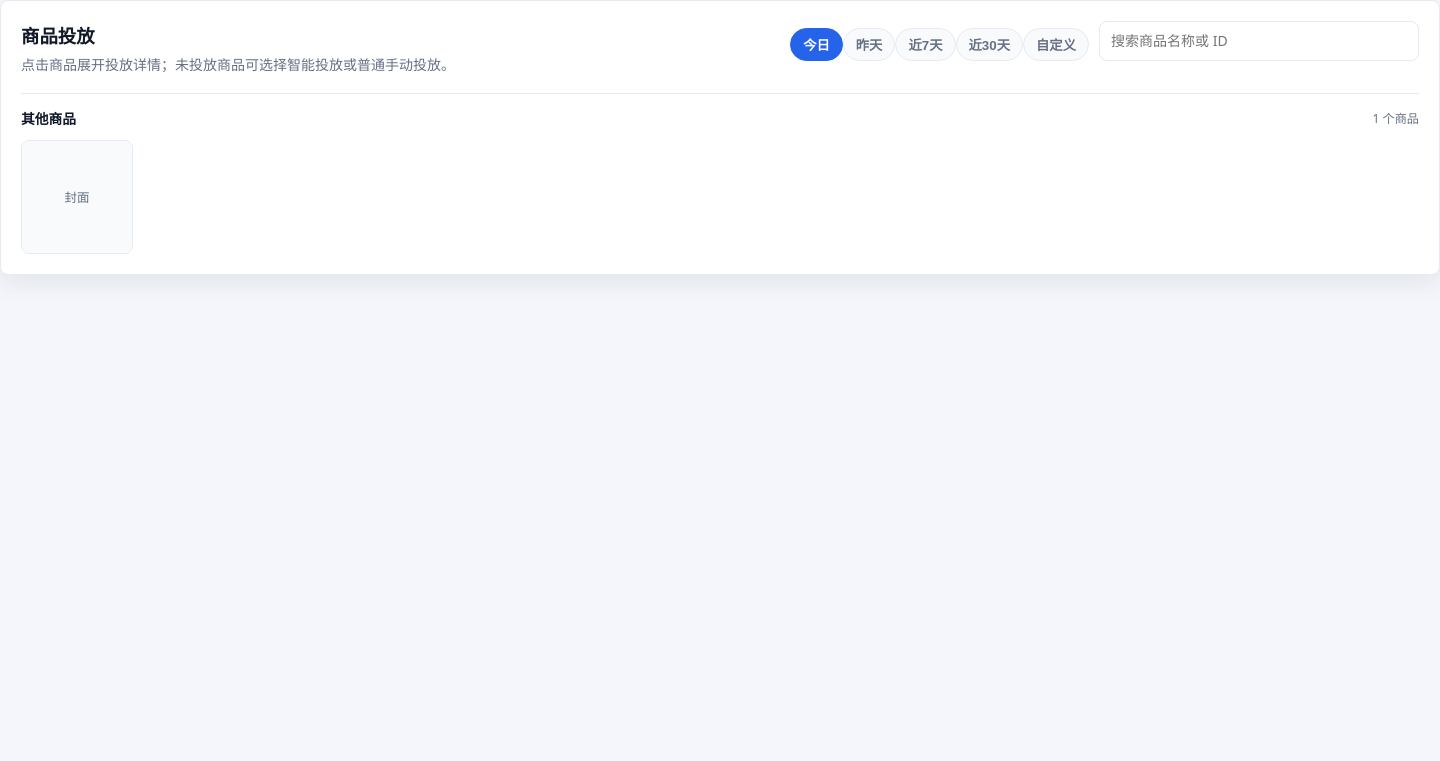
Test: ProductAutomationPanel creative pagination › renders, searches, and selects candidates beyond the former six-item cap
Click the button with aria-label "展开商品 测试商品" at (77, 197), box left=22, top=141, right=132, bottom=253
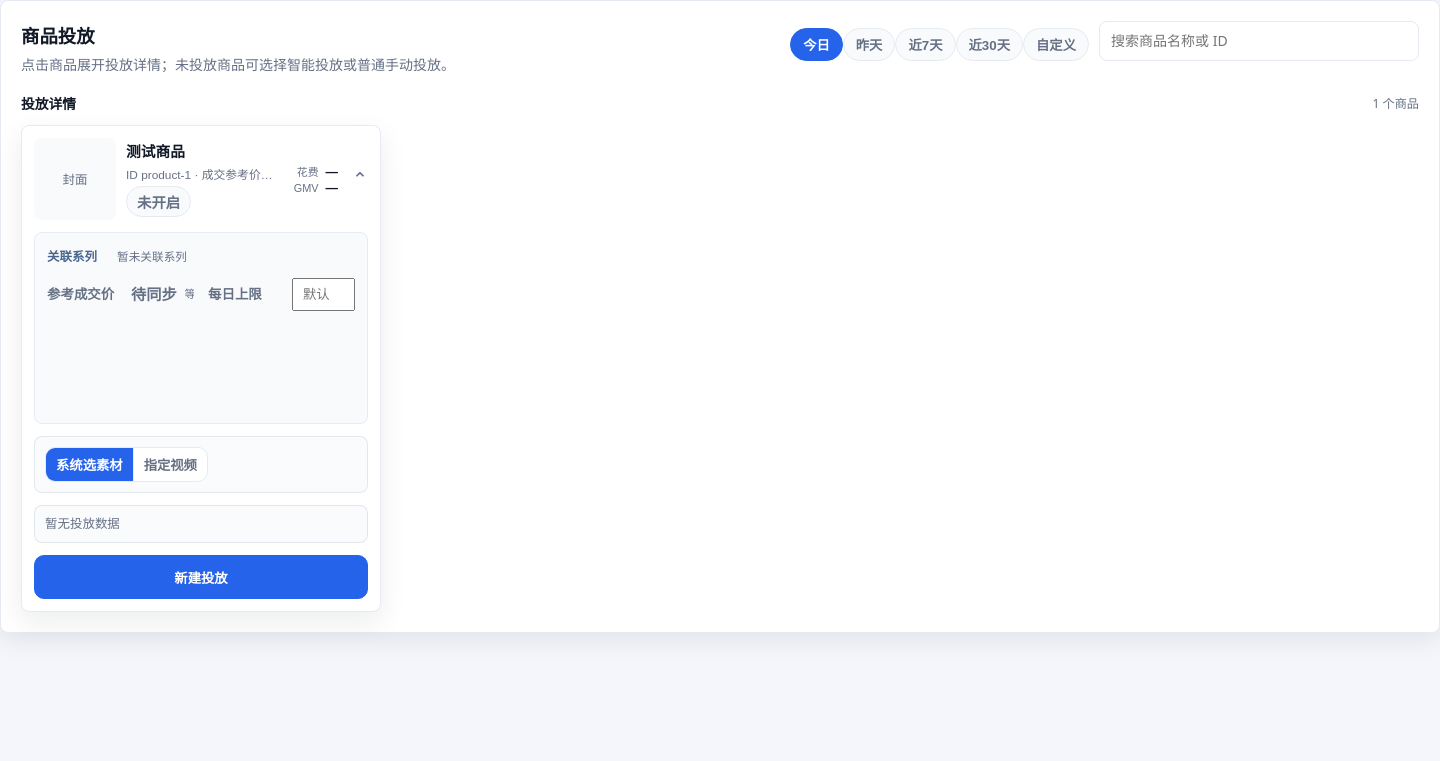
Click the button "指定视频" at (170, 464), box left=134, top=448, right=207, bottom=481
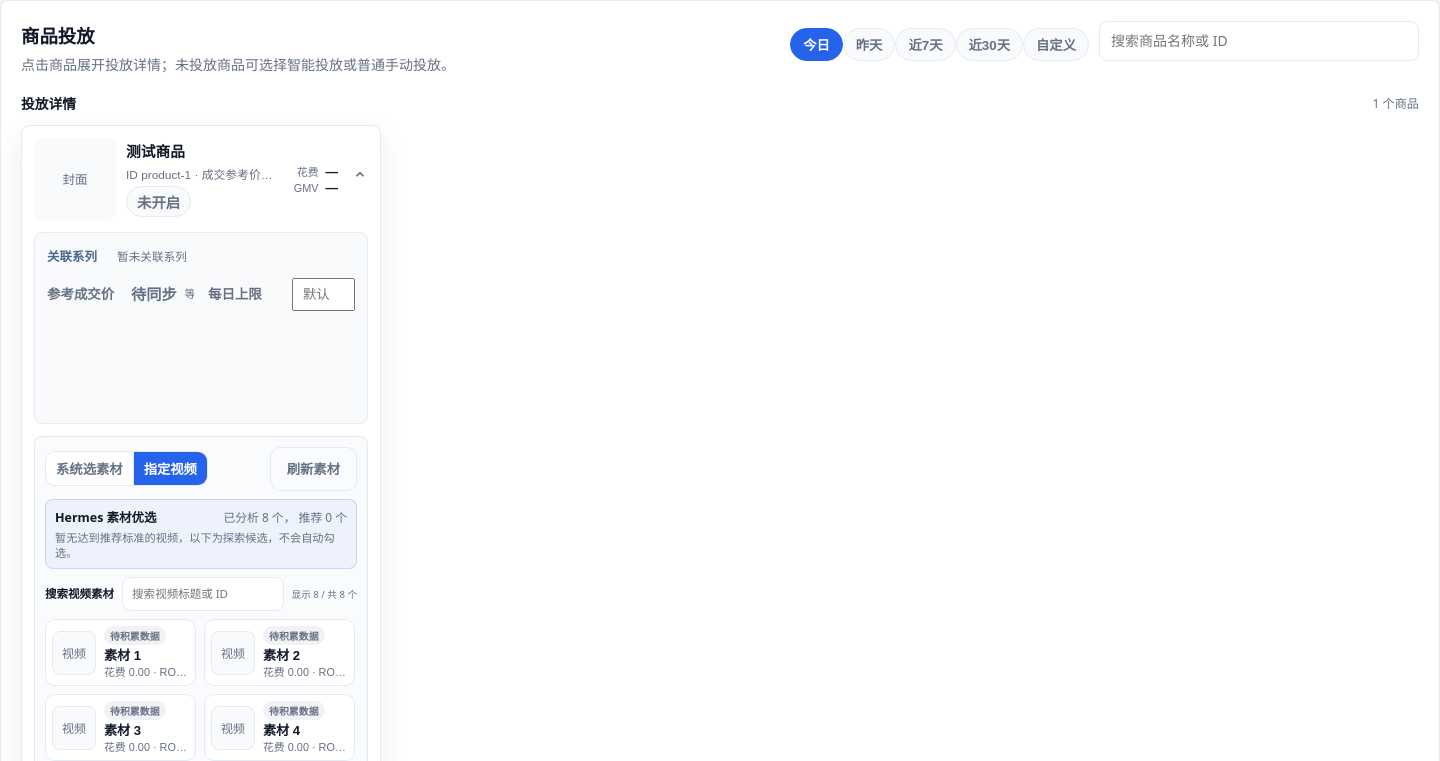
Result: the text "显示 8 / 共 8 个" is shown at left=292, top=587, right=357, bottom=602
Type "creative-8" into the search field with placeholder "搜索视频标题或 ID" at (203, 594), box left=122, top=577, right=284, bottom=611
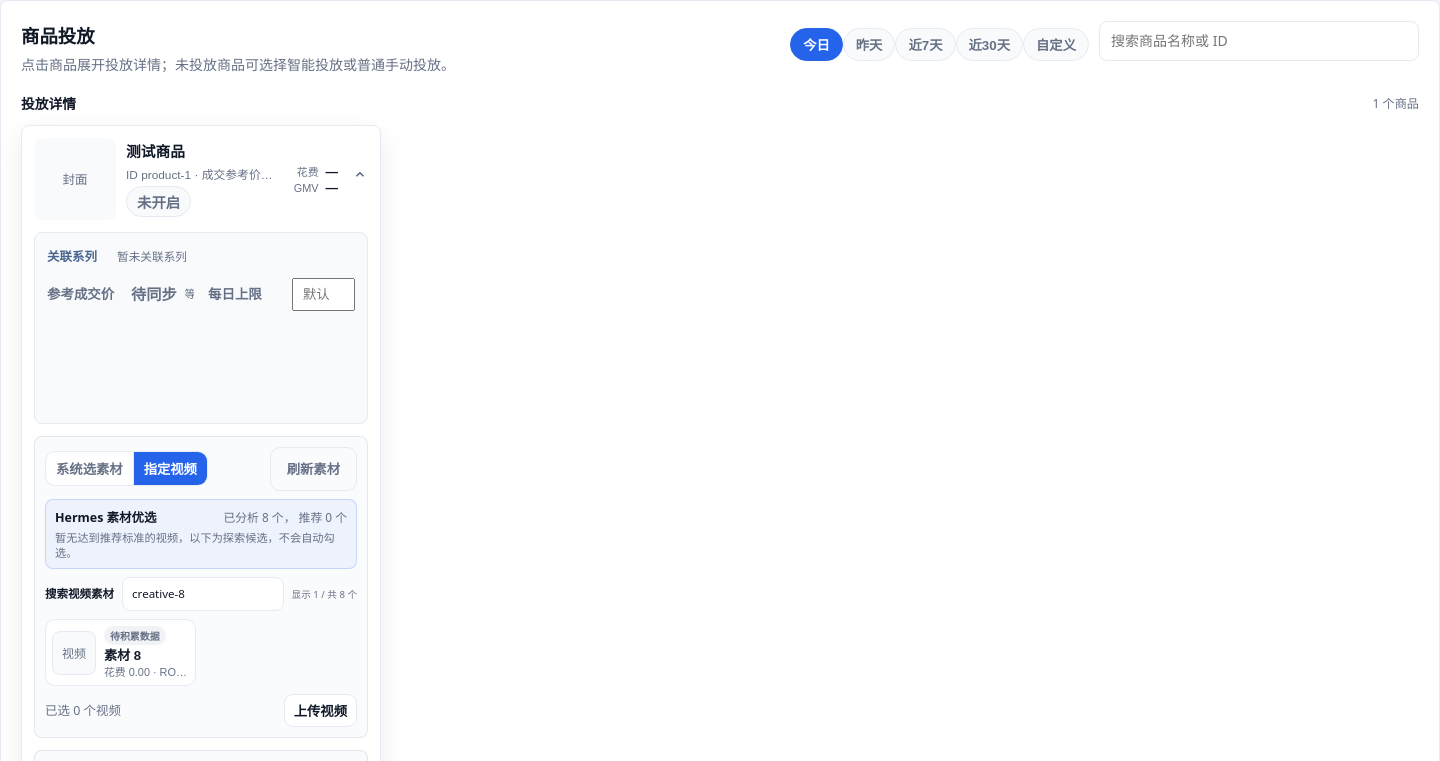
Result: the button "素材 1" is gone
Click the button "视频 待积累数据 素材 8 花费 0.00 · ROAS 0.00 · 订单 0" at (120, 653), box left=45, top=620, right=196, bottom=686
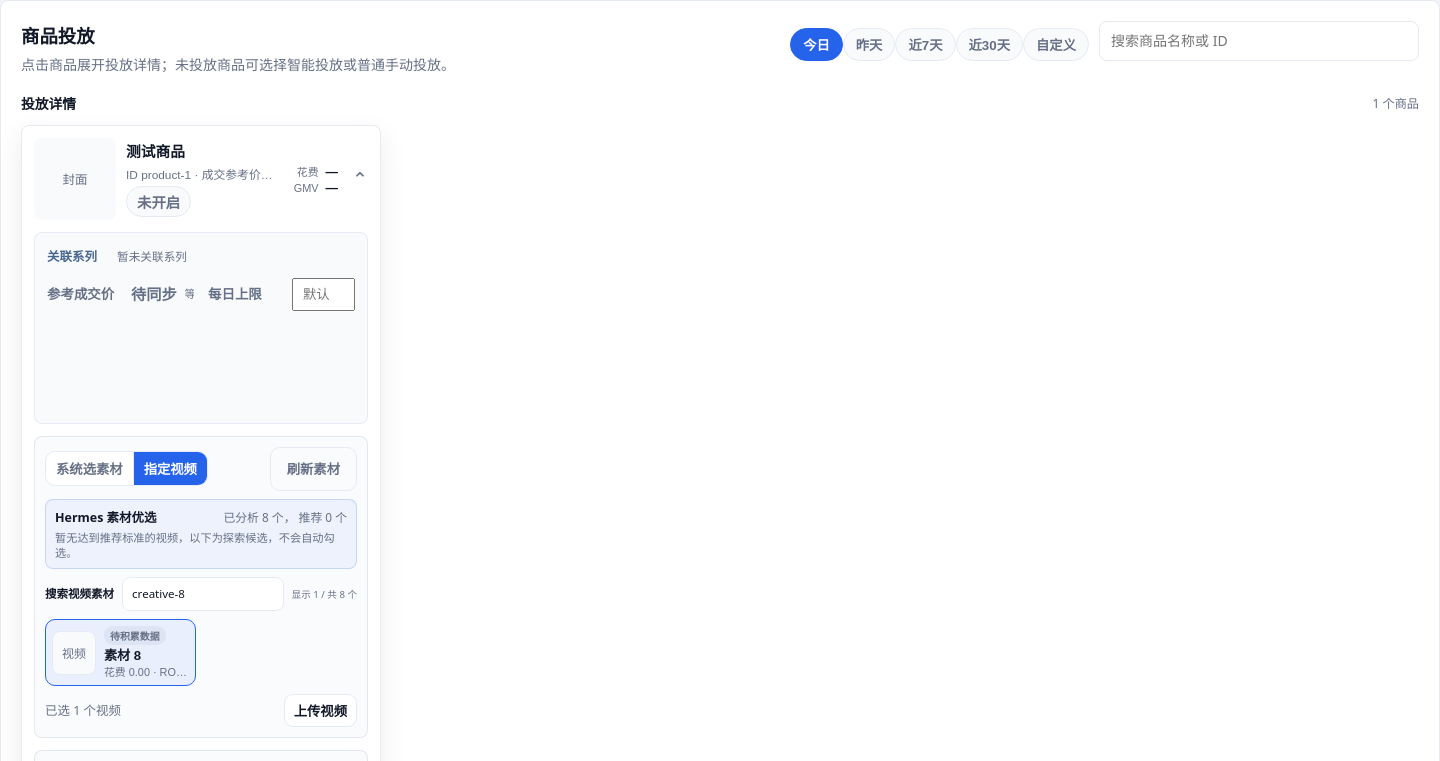
Result: the text "已选 1 个视频" is shown at left=45, top=701, right=121, bottom=721
